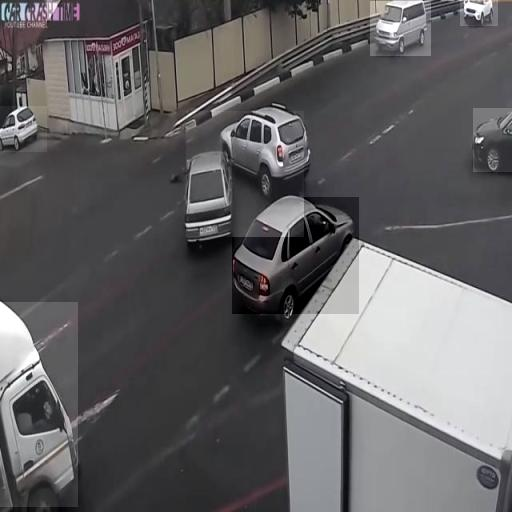小汽车: (0, 302, 78, 507), (232, 197, 359, 314), (370, 1, 431, 56), (473, 108, 512, 172), (0, 106, 47, 152), (460, 0, 498, 26)
小汽车撞小汽车: (186, 111, 304, 237)
